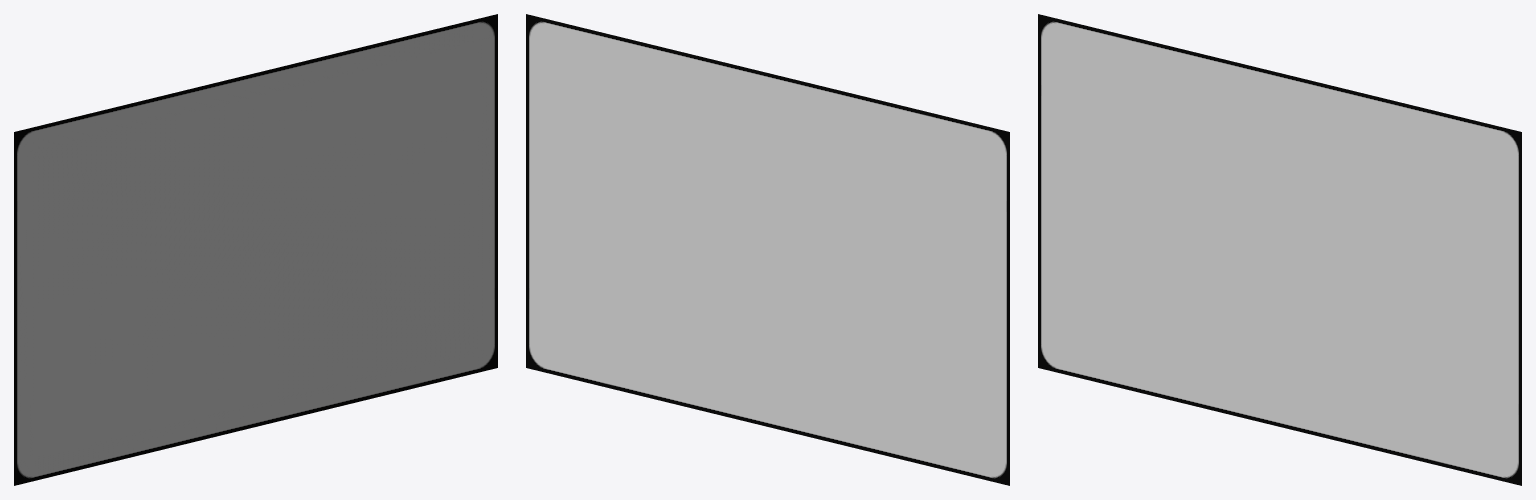
3 views of the same model, side by side, from view 1: azimuth 30°, elevation 25°; view 2: azimuth 150°, elevation 25°; view 3: azimuth 330°, elevation 25° (orthographic).
Parts seen in each view (by area): view 1: Joint_0_Object_0; view 2: Joint_0_Object_0; view 3: Joint_0_Object_0.
Part boxes in pixels (box(x1,y1,x2,y2)): Joint_0_Object_0: box(14, 14, 497, 485); Joint_0_Object_0: box(526, 14, 1009, 485); Joint_0_Object_0: box(1038, 14, 1521, 485).
Size of the model in its own units: 249 by 174 by 0.
Materials: 1 (1 with a texture image).
